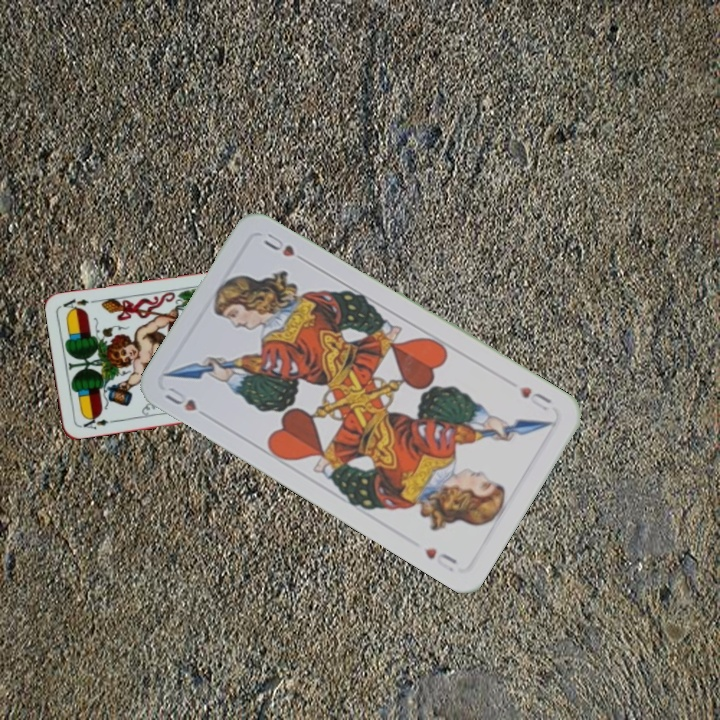EA: (76, 412, 116, 432)
HU: (515, 382, 554, 414), (160, 383, 200, 414)
